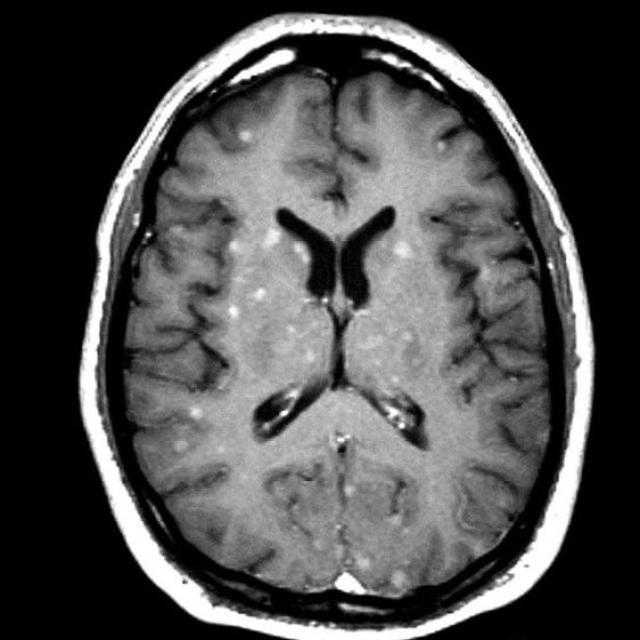No_Tumor: (80, 15, 593, 639)
